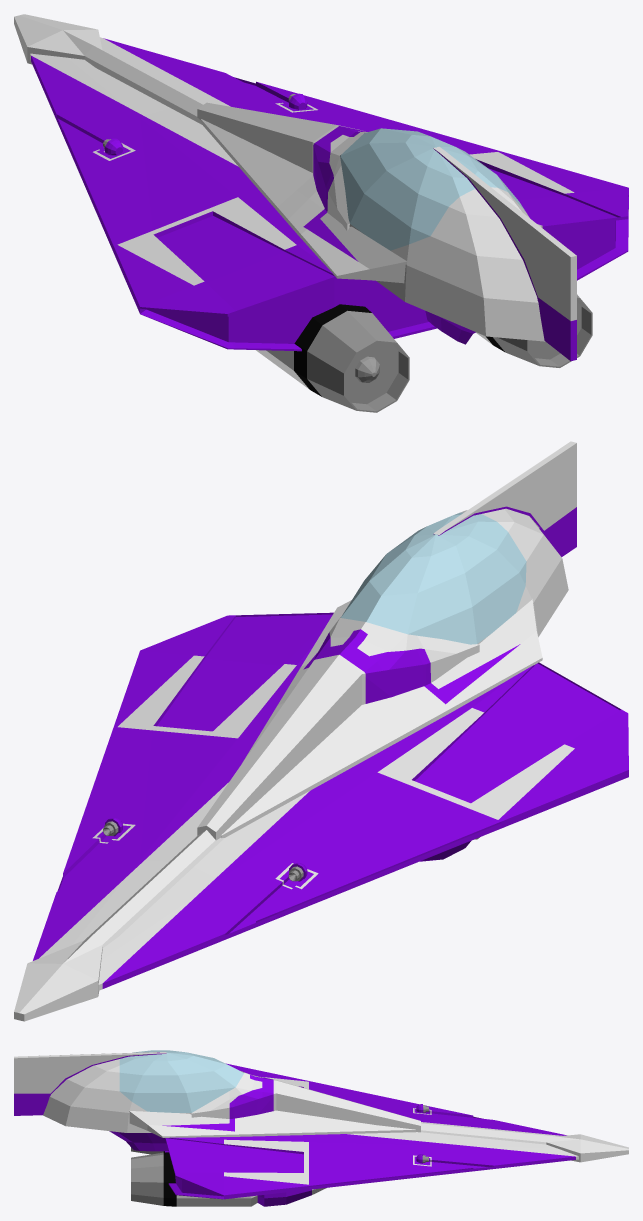
The model's file is fighter.fbx.
3 renders of one model, top to bottom at view 1: azimuth 30°, elevation 25°; view 2: azimuth 150°, elevation 25°; view 3: azimuth 270°, elevation 25°, orthographic. The views are drawn at different scales.
Parts seen in each view (by area): view 1: triangle craft, captain sphere, boosters, nose2, nose3, tail fin, nose1, blast thing; view 2: triangle craft, captain sphere, nose3, nose2, nose1, tail fin; view 3: triangle craft, captain sphere, nose3, nose2, boosters, tail fin, nose1.
Boxes of the visible parts, x1=… form: triangle craft: x1=30, y1=37, x2=628, y2=351; captain sphere: x1=340, y1=128, x2=545, y2=344; boosters: x1=256, y1=294, x2=592, y2=412; nose2: x1=201, y1=119, x2=542, y2=283; nose3: x1=197, y1=102, x2=367, y2=231; tail fin: x1=433, y1=146, x2=576, y2=361; nose1: x1=14, y1=14, x2=202, y2=124; blast thing: x1=103, y1=93, x2=307, y2=155; triangle craft: x1=33, y1=612, x2=628, y2=990; captain sphere: x1=341, y1=508, x2=568, y2=644; nose3: x1=197, y1=617, x2=479, y2=840; nose2: x1=221, y1=599, x2=542, y2=838; nose1: x1=14, y1=830, x2=224, y2=1021; tail fin: x1=433, y1=441, x2=576, y2=556; triangle craft: x1=165, y1=1063, x2=578, y2=1199; captain sphere: x1=43, y1=1050, x2=244, y2=1151; nose3: x1=191, y1=1071, x2=420, y2=1132; nose2: x1=129, y1=1110, x2=415, y2=1137; boosters: x1=131, y1=1147, x2=326, y2=1206; tail fin: x1=14, y1=1052, x2=166, y2=1115; nose1: x1=421, y1=1123, x2=628, y2=1162.
Bounding box in the file's own units: 3442 × 1544 × 6765.
